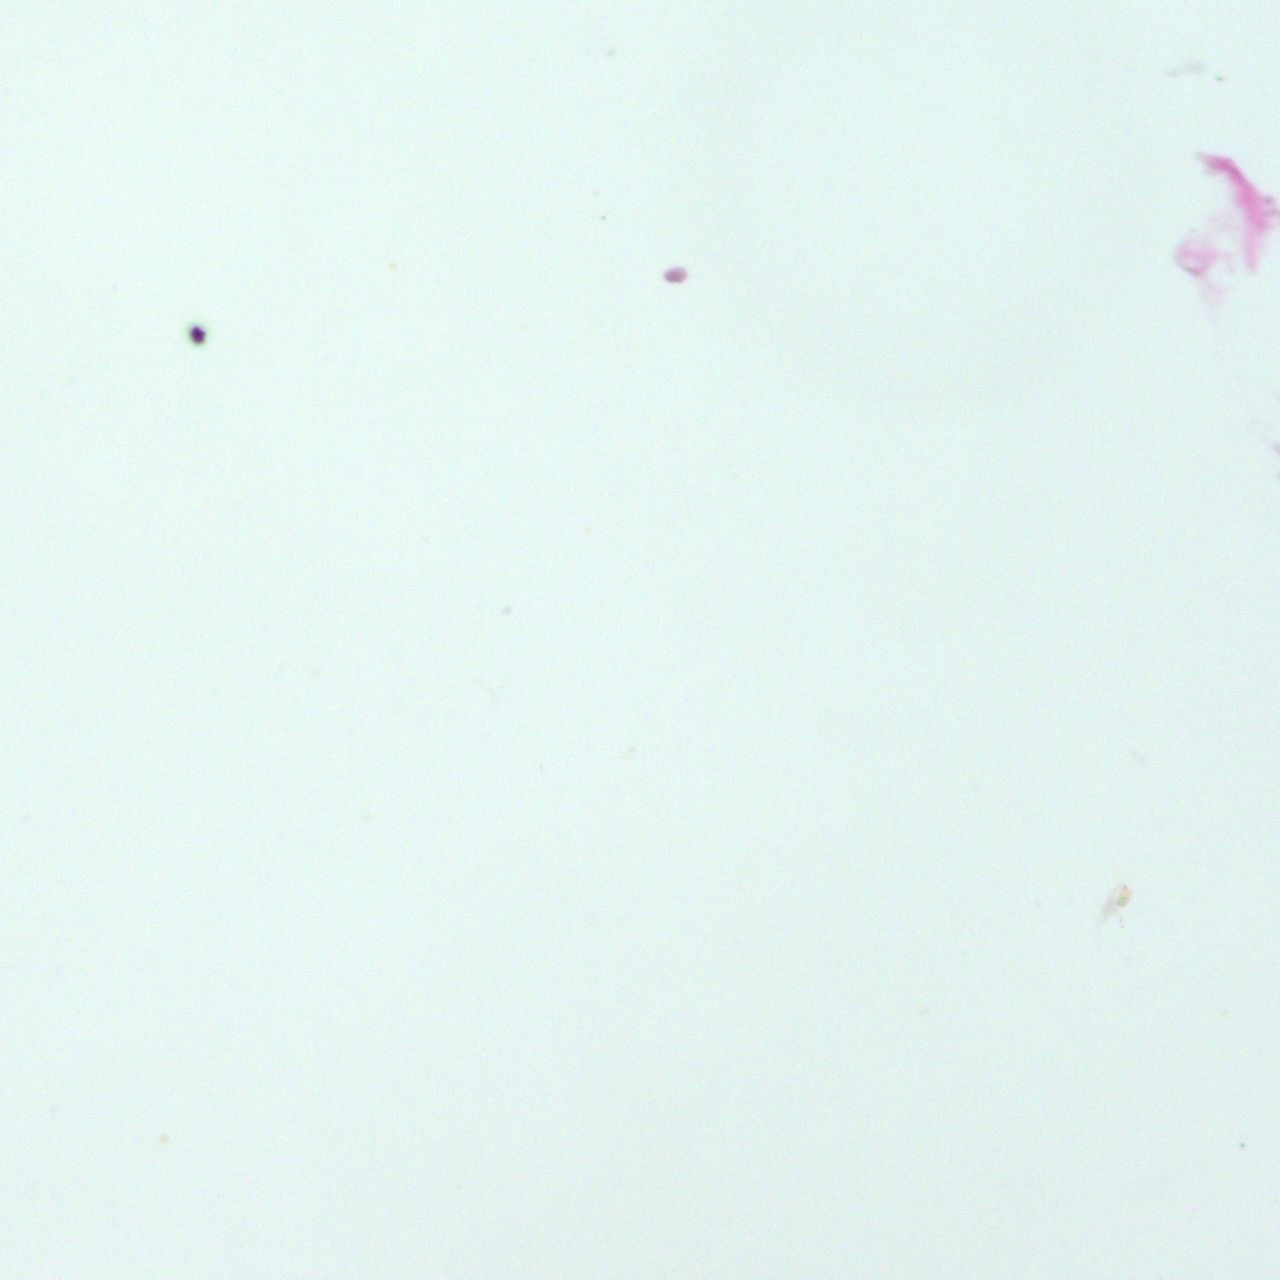dust: (190, 321, 206, 346)
